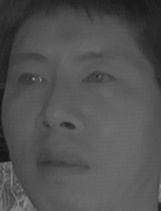eye: (79, 68, 116, 89), (15, 70, 48, 90)
mouth: (29, 142, 91, 183)
